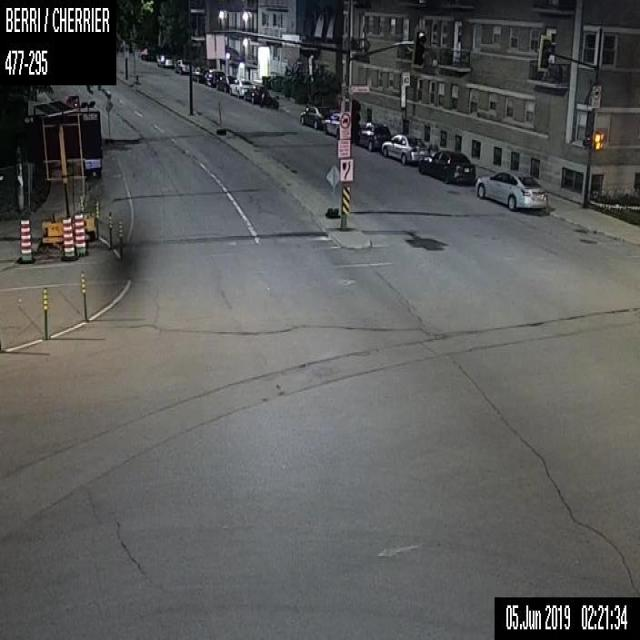construction: (22, 99, 98, 250), (325, 163, 339, 217), (74, 211, 86, 256), (18, 216, 30, 261), (61, 215, 73, 260), (213, 96, 225, 133), (104, 99, 114, 142), (80, 268, 87, 320), (42, 284, 47, 337), (108, 211, 114, 248), (118, 219, 123, 260)
vehicle: (475, 170, 547, 209), (418, 150, 475, 182), (381, 133, 428, 162), (353, 122, 390, 150), (299, 106, 330, 128), (322, 112, 342, 138), (243, 84, 268, 104), (228, 78, 254, 97), (215, 74, 236, 93), (203, 68, 223, 86), (259, 91, 278, 109), (191, 66, 208, 83), (173, 59, 189, 73), (156, 54, 172, 67), (140, 48, 156, 60)
